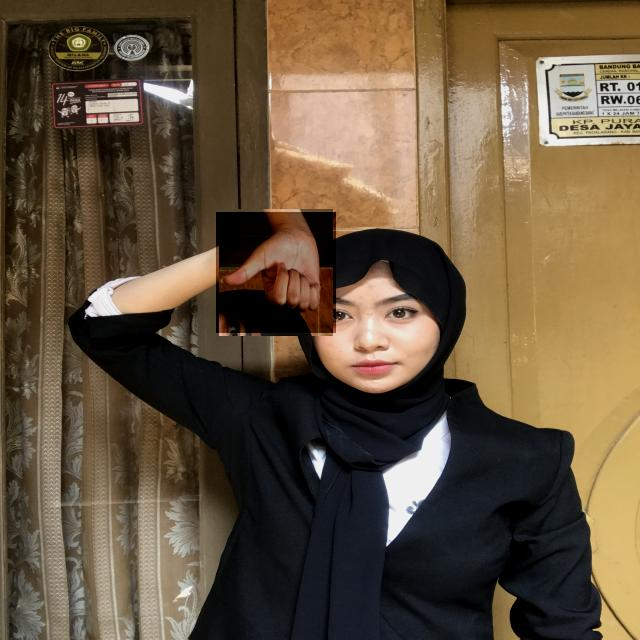sedih: (216, 212, 336, 333)
